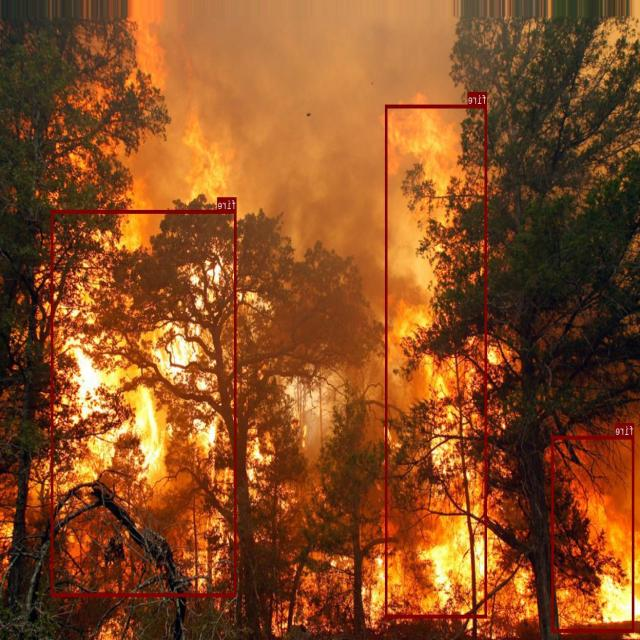fire: (51, 209, 237, 596), (386, 105, 487, 618), (552, 436, 634, 632)
